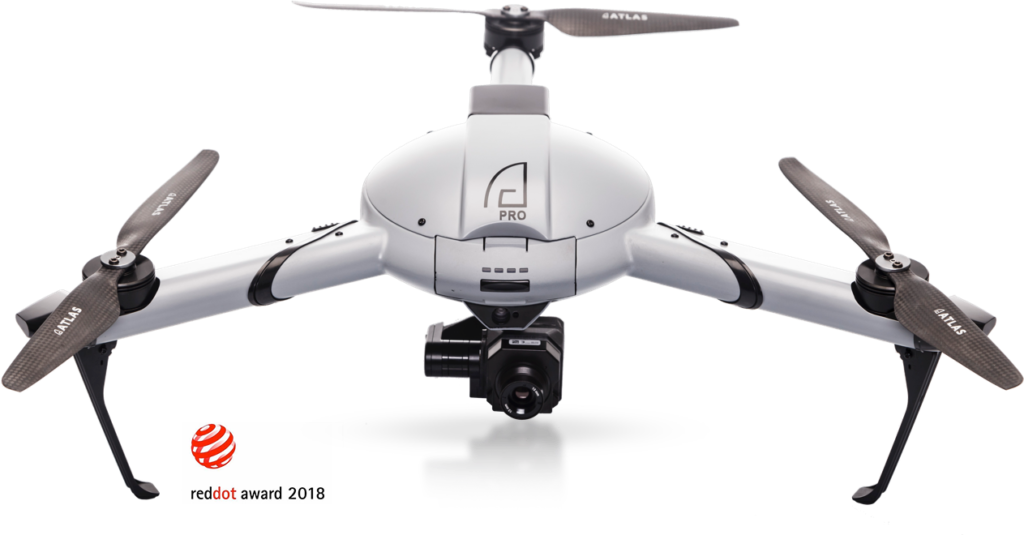drone: (2, 1, 1024, 509)
